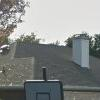Chimney: (61, 25, 99, 73)
